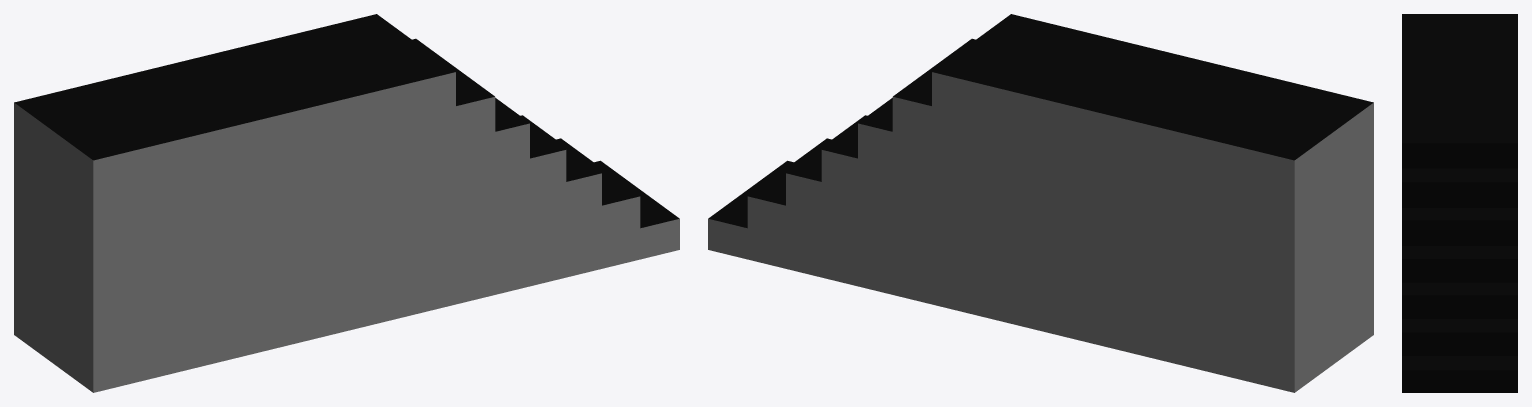
File: stairs.fbx
The picture shows the model from 3 angles, left to right: view 1: azimuth 30°, elevation 25°; view 2: azimuth 150°, elevation 25°; view 3: azimuth 270°, elevation 25°; orthographic projection. The views are drawn at different scales.
Parts seen in each view (by area): view 1: Куб; view 2: Куб; view 3: Куб.
Part boxes in pixels (<box>): Куб: <box>14,14,679,392</box>; Куб: <box>708,14,1373,392</box>; Куб: <box>1402,14,1517,392</box>.
Size of the model in its own units: 854 by 324 by 200.
